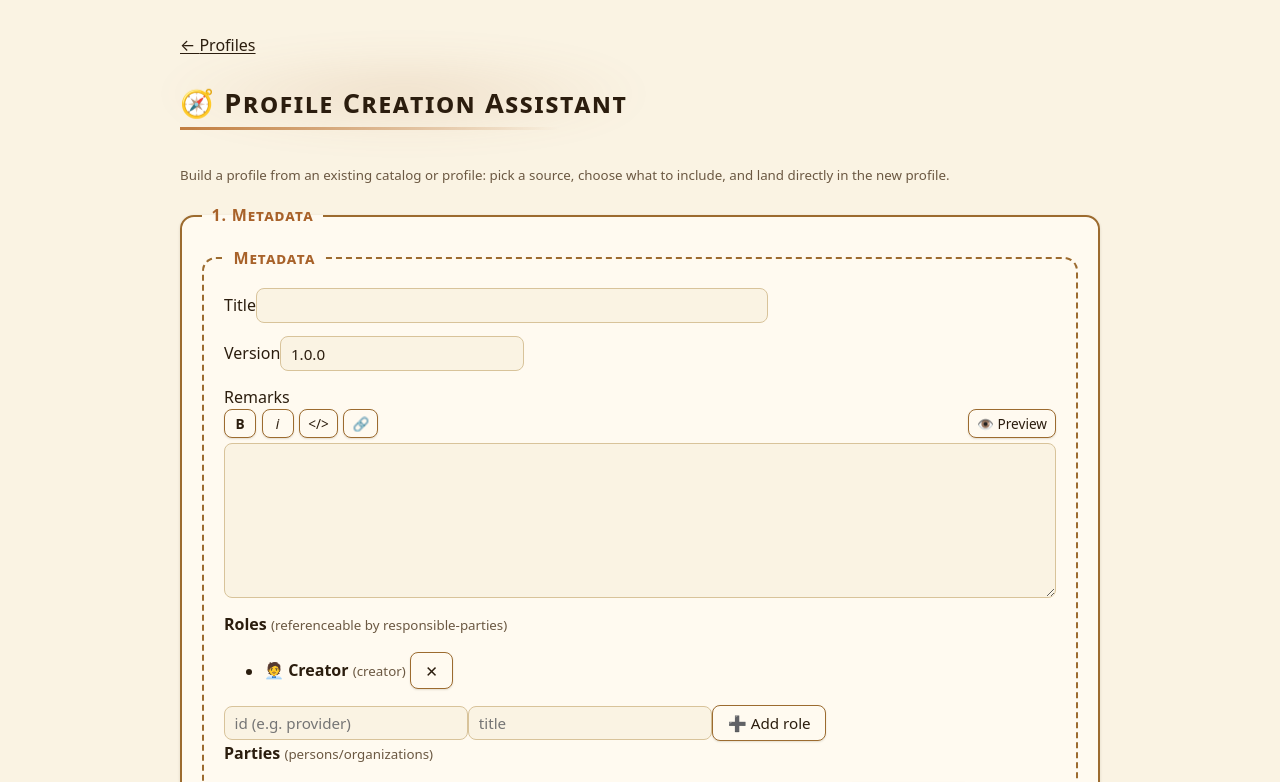
Test: target-object inclusion mode › deselecting a node drops ancestor inclusion unless another selection keeps it alive
In the field with test id "md-title": x=512, y=305 256,288 -> 768,323, type "Assistant Profile"
(page scrolled)
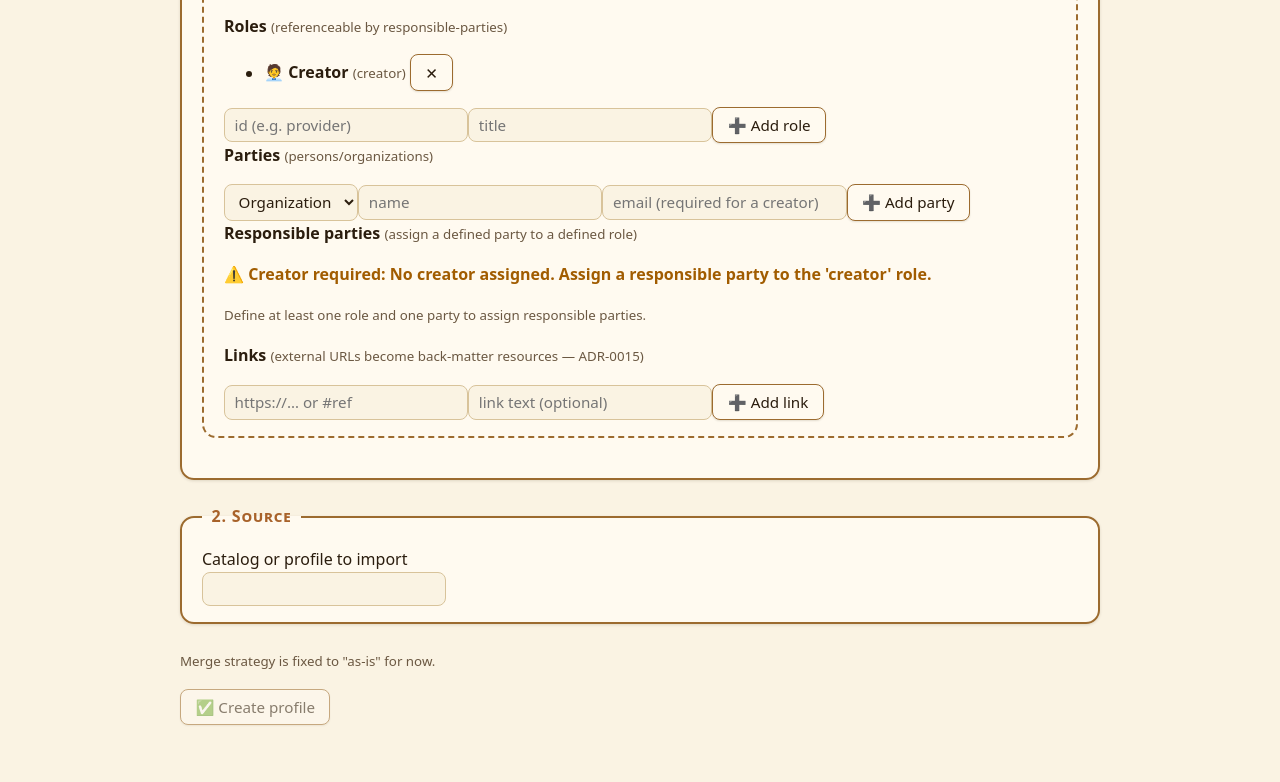
In the field with test id "profile-assistant-source-picker-input": x=324, y=589 202,572 -> 446,606, type "Grundschutz"
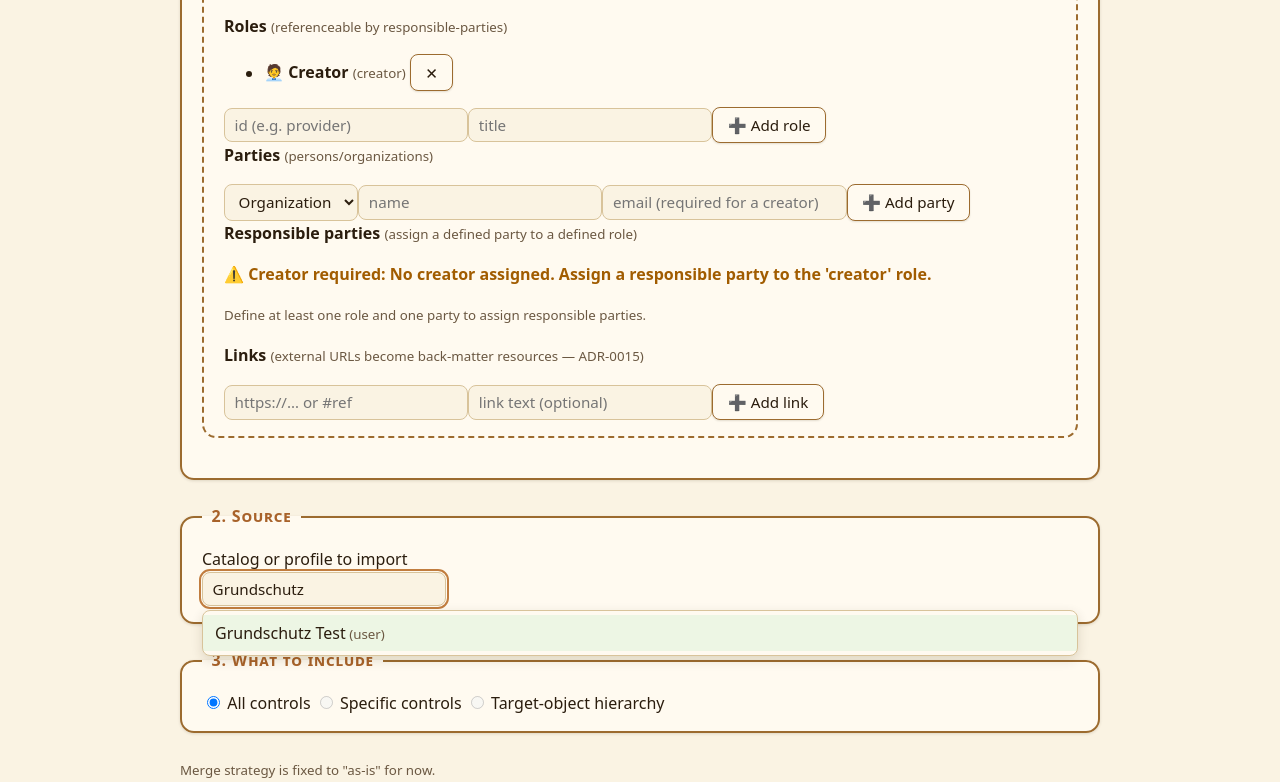
Click the list item "Grundschutz Test": x=640, y=633 203,615 -> 1077,651
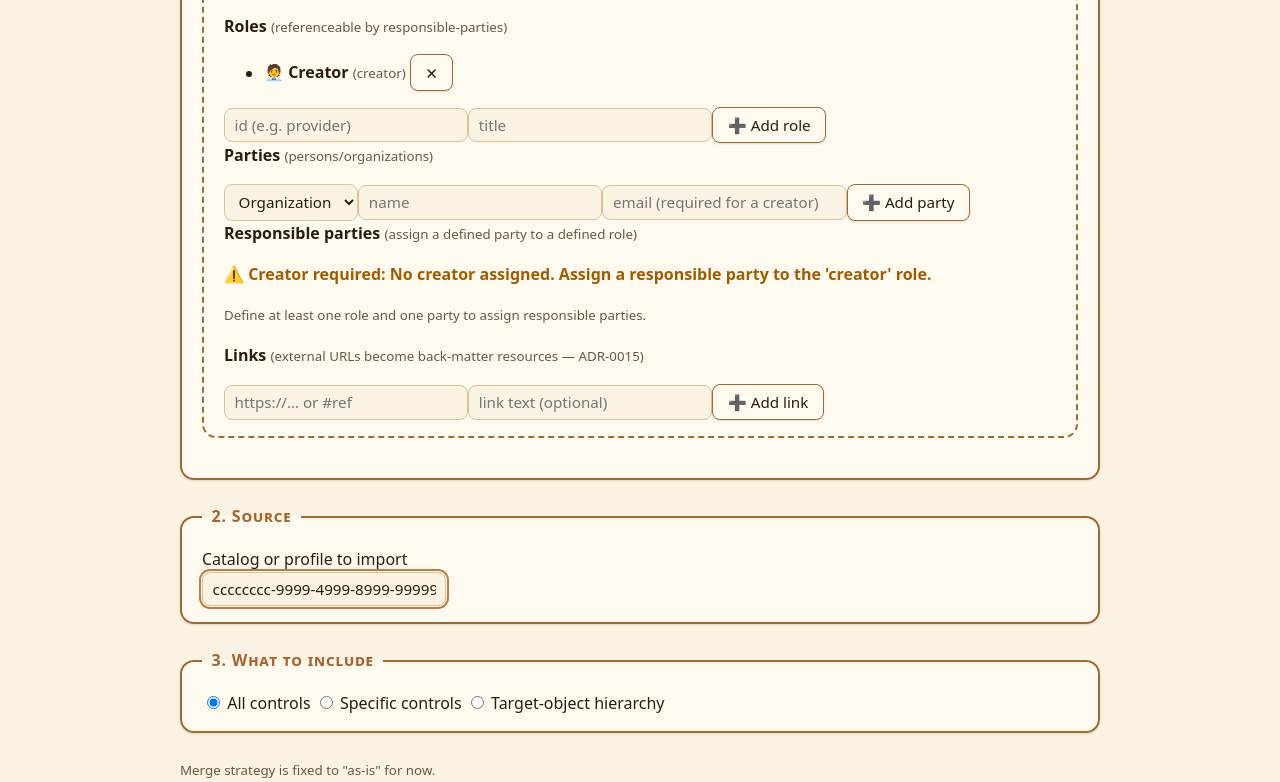
Click the radio button with test id "profile-assistant-mode-target-object": x=477, y=702 471,696 -> 484,709
(page scrolled)
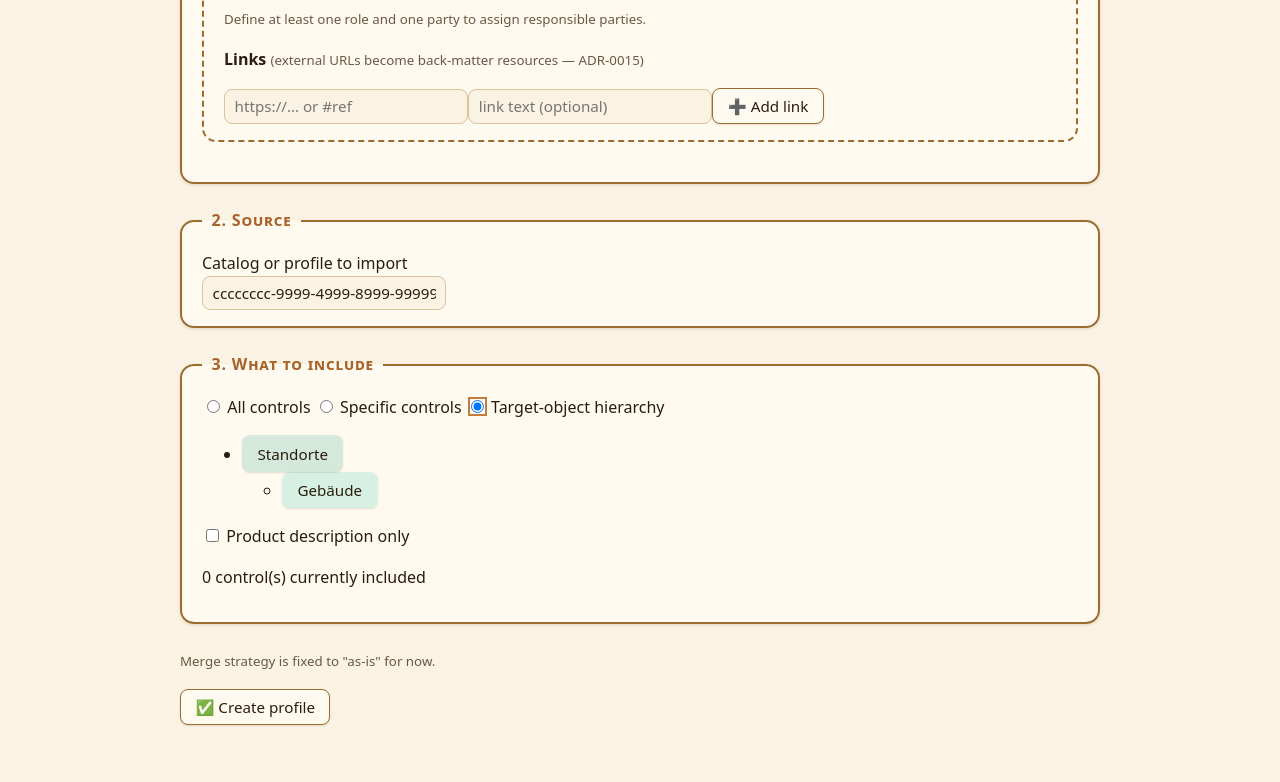
Click the button "Gebäude": x=330, y=490 282,472 -> 378,508
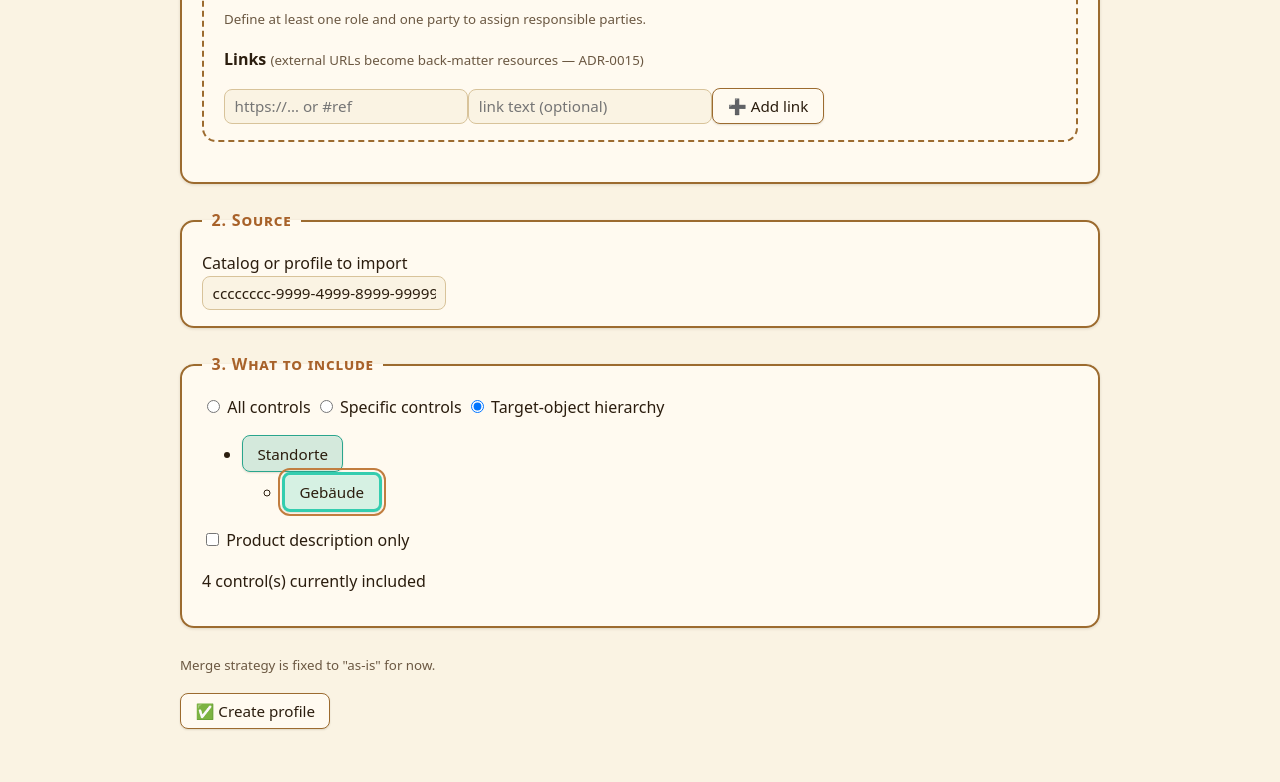
Expected: the button "Standorte" has attribute data-state="included", 242,436 -> 343,472
Click the button "Gebäude": x=332, y=492 282,472 -> 382,512
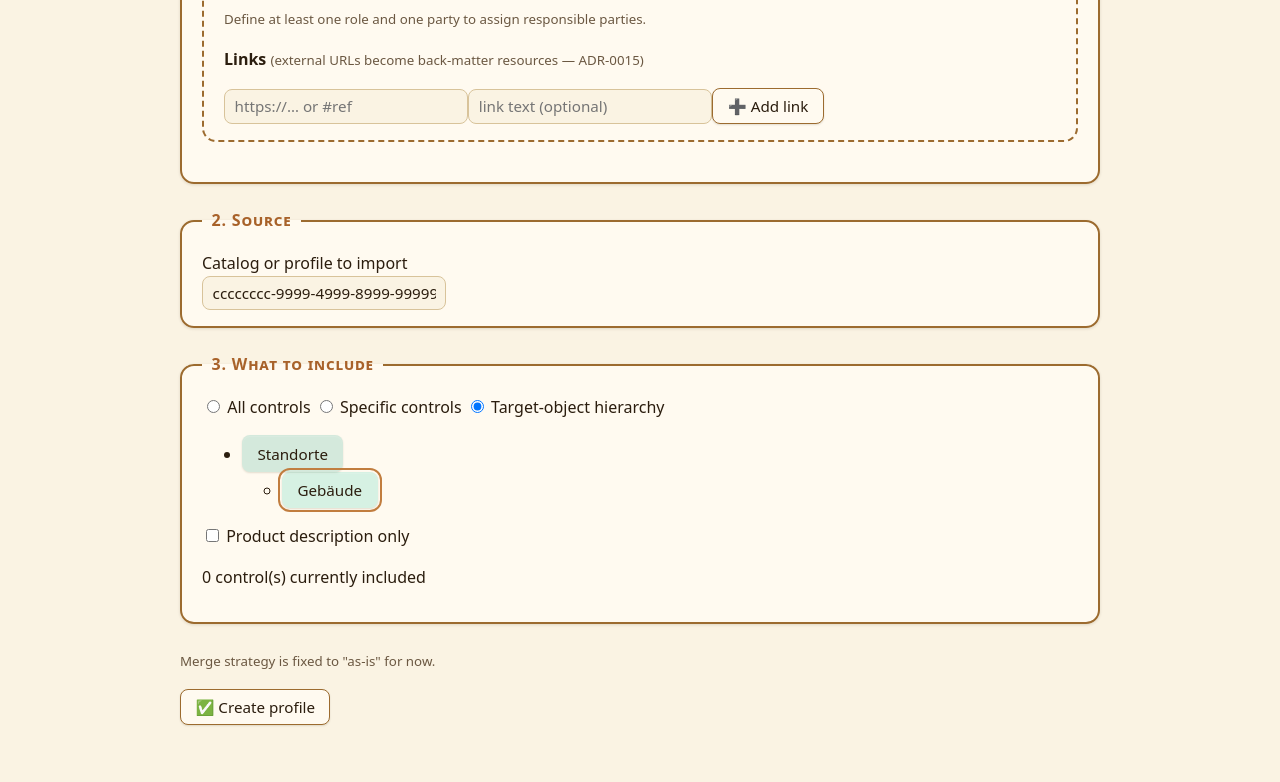
Expected: the text with test id "target-object-match-count" shows "0", 202,566 -> 426,588
